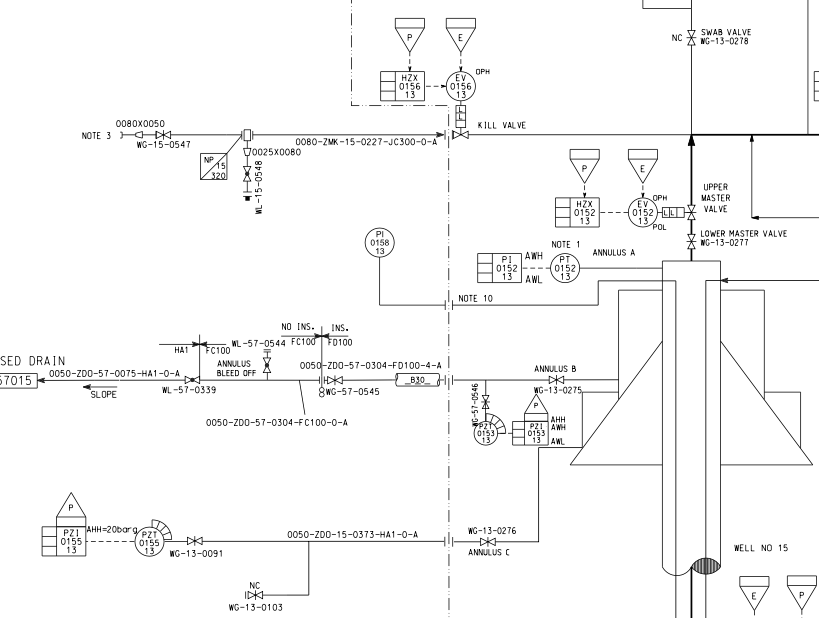Instrument: (362, 220, 401, 264), (443, 70, 480, 102), (134, 526, 165, 560), (626, 196, 657, 227), (470, 416, 500, 447)
Instrument-square: (551, 194, 603, 231), (40, 521, 91, 558), (377, 68, 428, 105), (474, 250, 524, 285), (509, 415, 551, 449)
